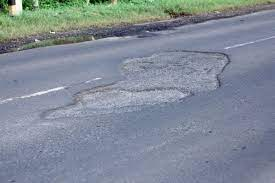Pothole: (32, 48, 231, 118)
